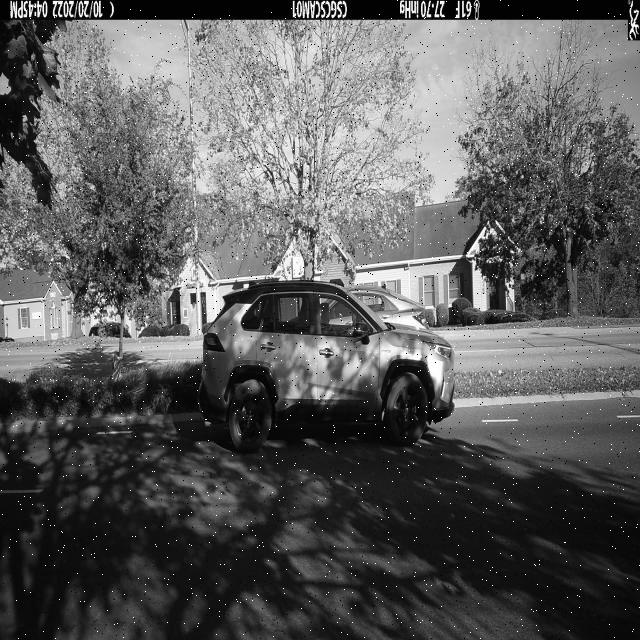SUV: (197, 279, 454, 454)
